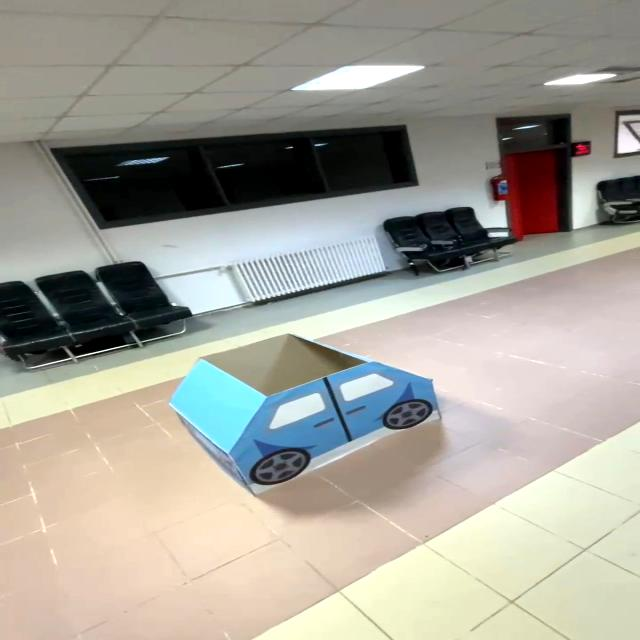blue_car: (123, 318, 475, 507)
